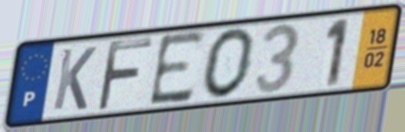1: (323, 16, 352, 90)
3: (254, 21, 304, 96)
E: (146, 27, 209, 110)
F: (93, 36, 155, 115)
K: (50, 45, 99, 113)
O: (200, 26, 258, 102)
